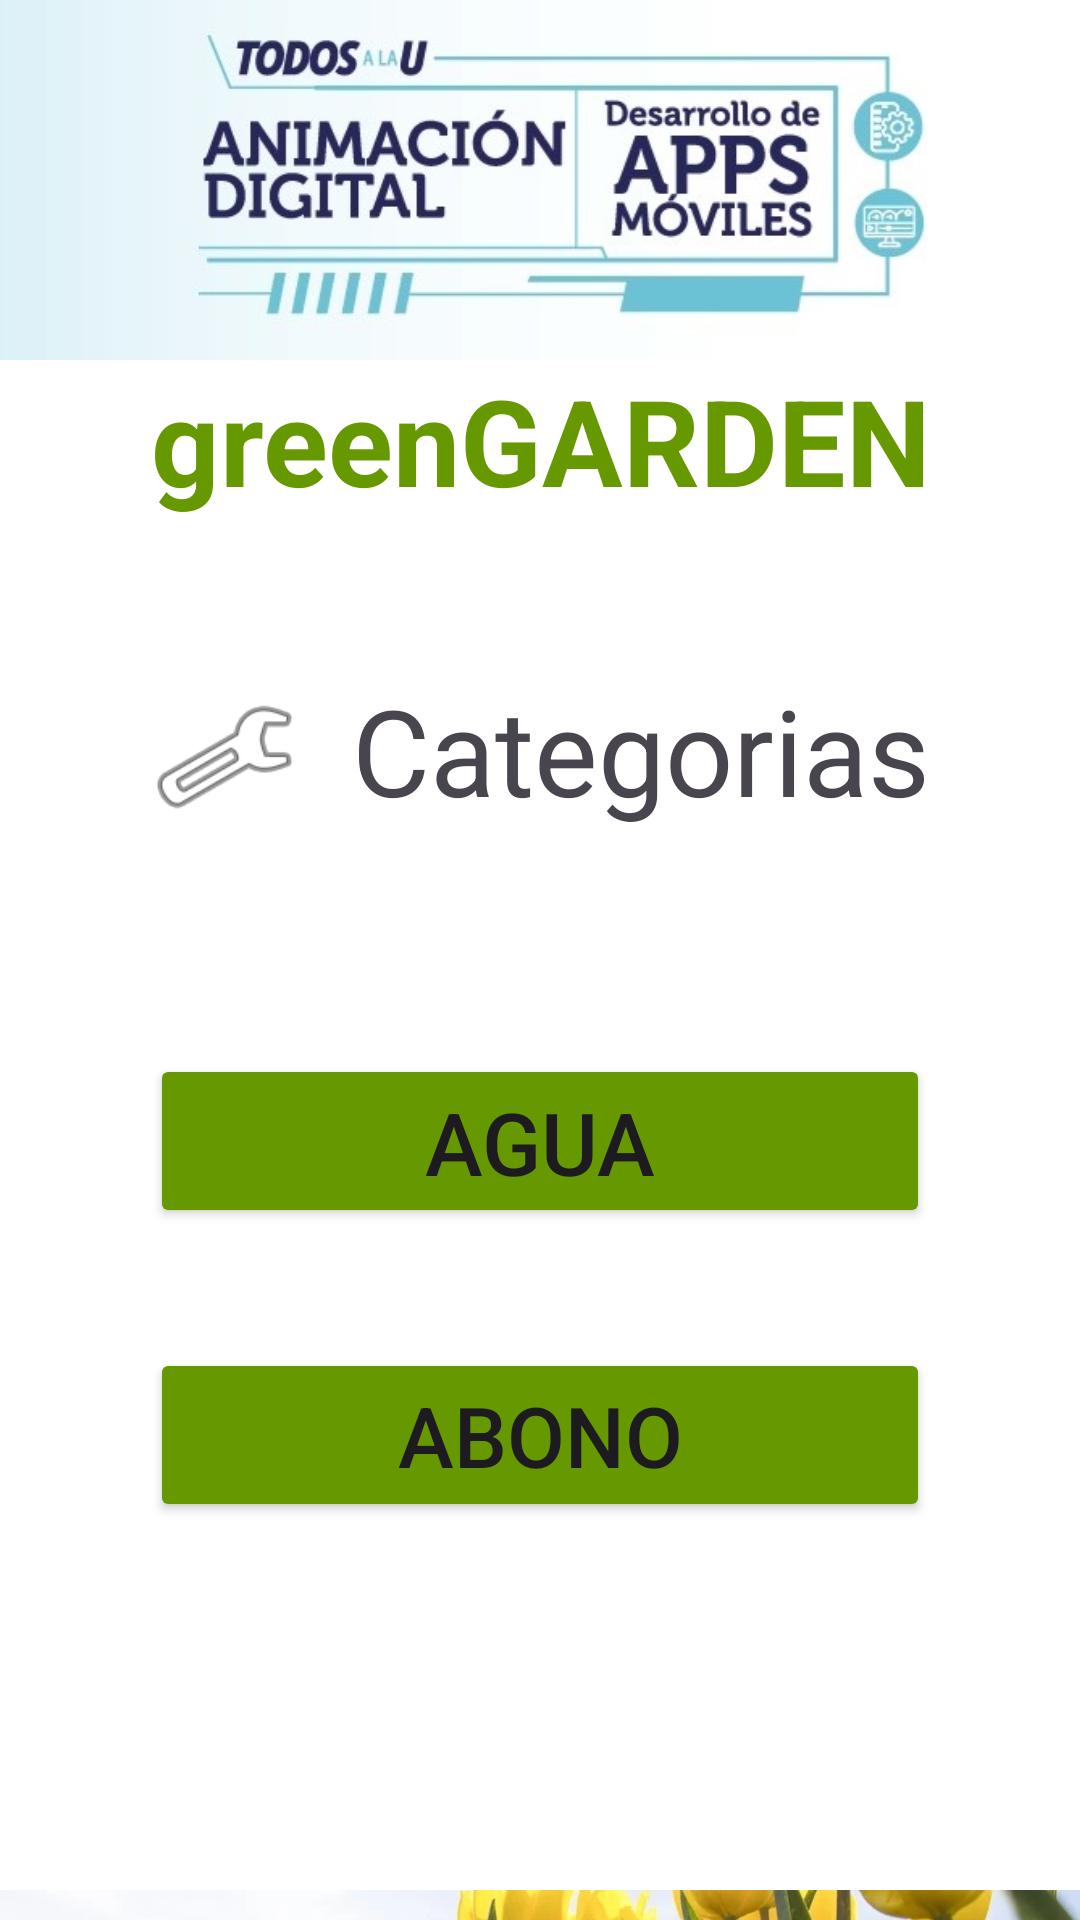

Named icons in this screenshot (1080*1920) and their centers, [x,y]:
manage: [224,757]
